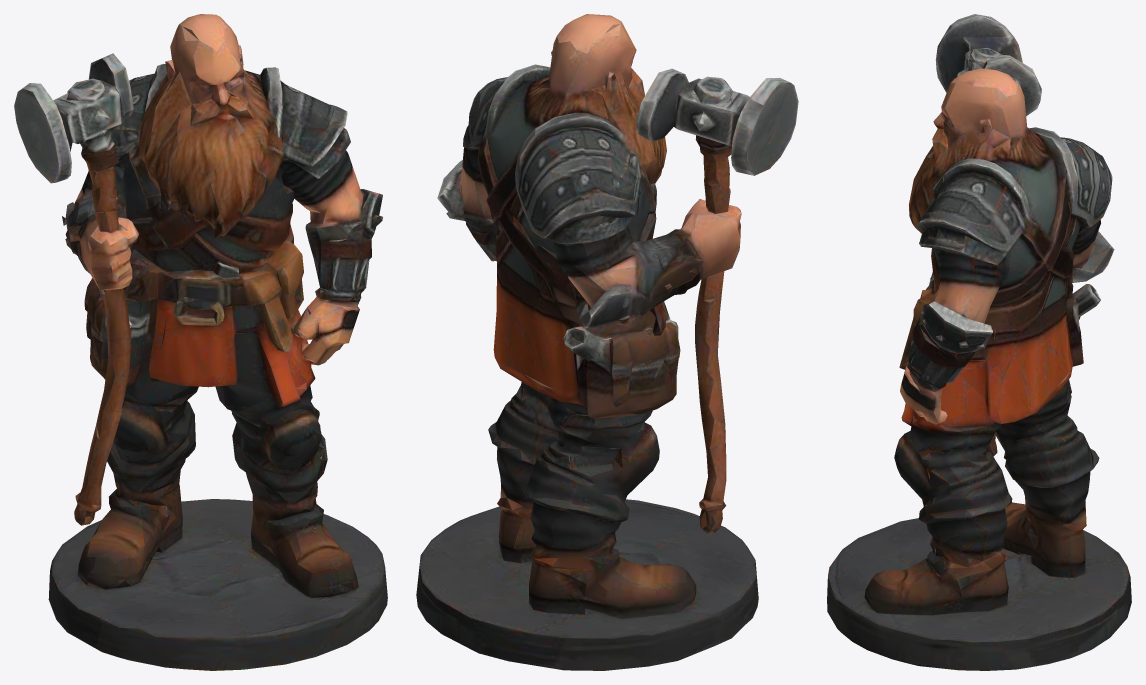
Rendered from hero_sapper.glb.
3 renders of one model, left to right at view 1: azimuth 30°, elevation 25°; view 2: azimuth 150°, elevation 25°; view 3: azimuth 270°, elevation 25°, orthographic. The views are drawn at different scales.
Size of the model in its own units: 1.16 by 1.9 by 0.9868.
1 material, 1 textured.
